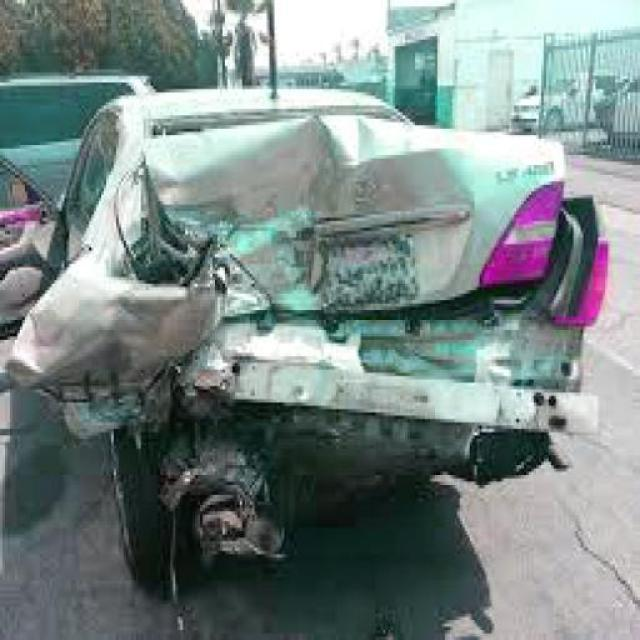Car-Damage: (4, 118, 604, 563)
